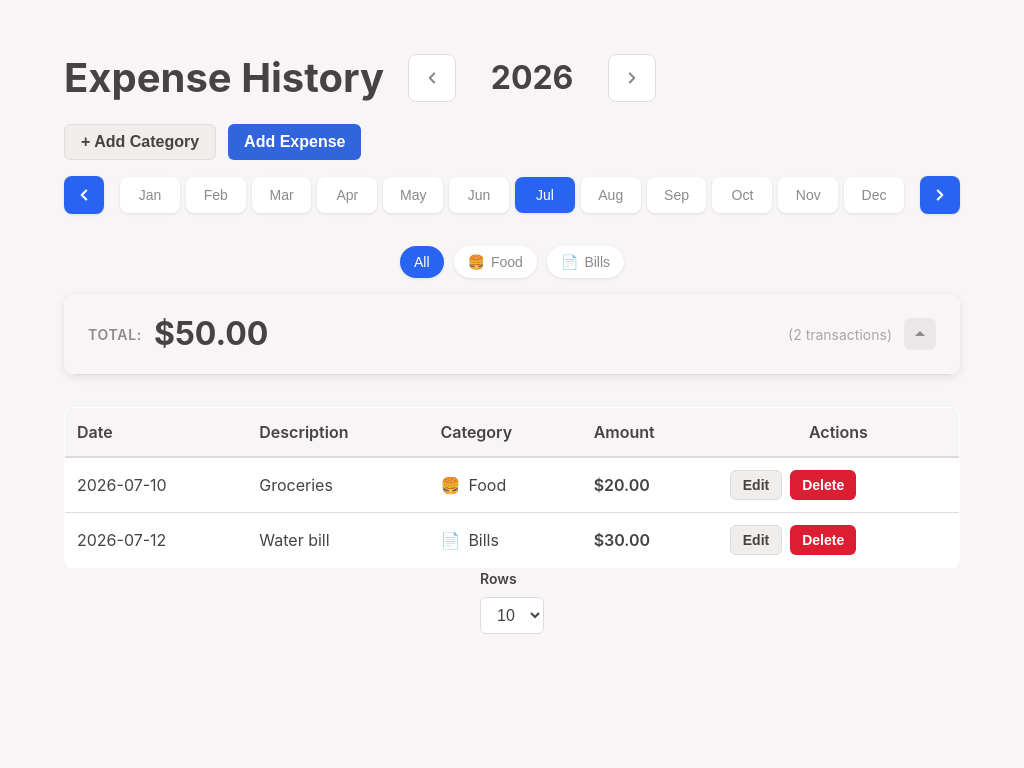
Scenario: HistoryPage category filtering › unions expenses across multiple selected categories
Expected: the text "Groceries" is shown, [247,457,428,512]
Click the button "🍔 Food" at (495, 262), box [454,246,537,278]
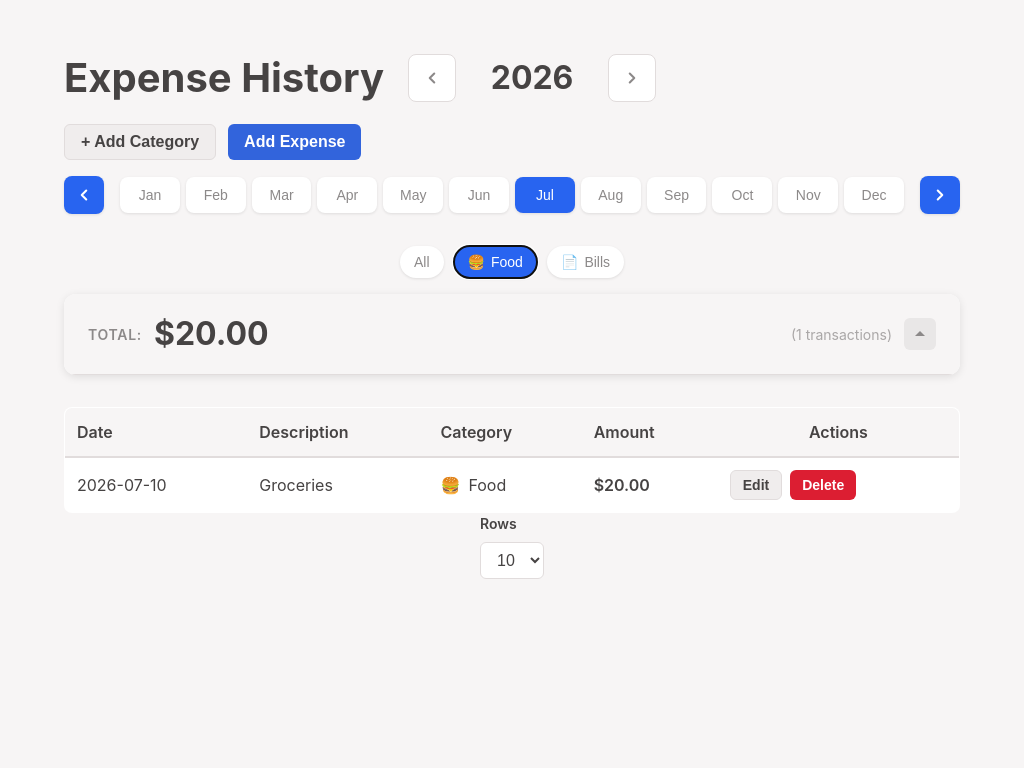
Click the button "📄 Bills" at (585, 262), box [547,246,624,278]
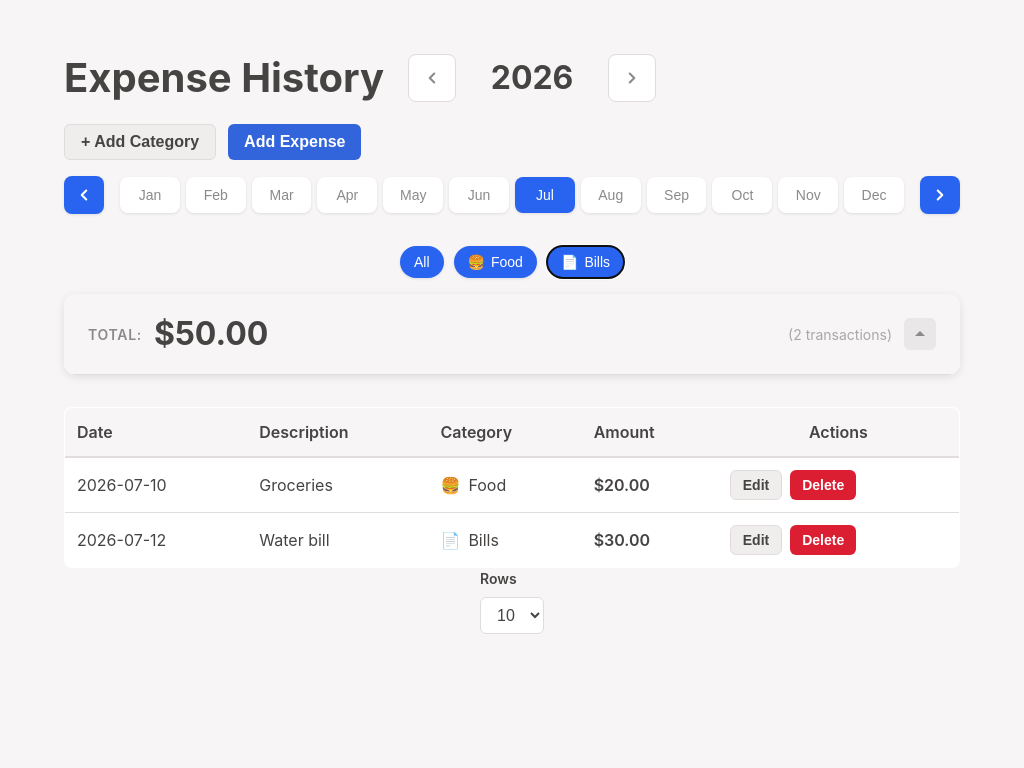
Expected: the text "Groceries" is shown, [247,457,428,512]
Expected: the text "Water bill" is shown, [247,512,428,568]
Expected: the text "$50.00" is shown, [154,310,268,358]
